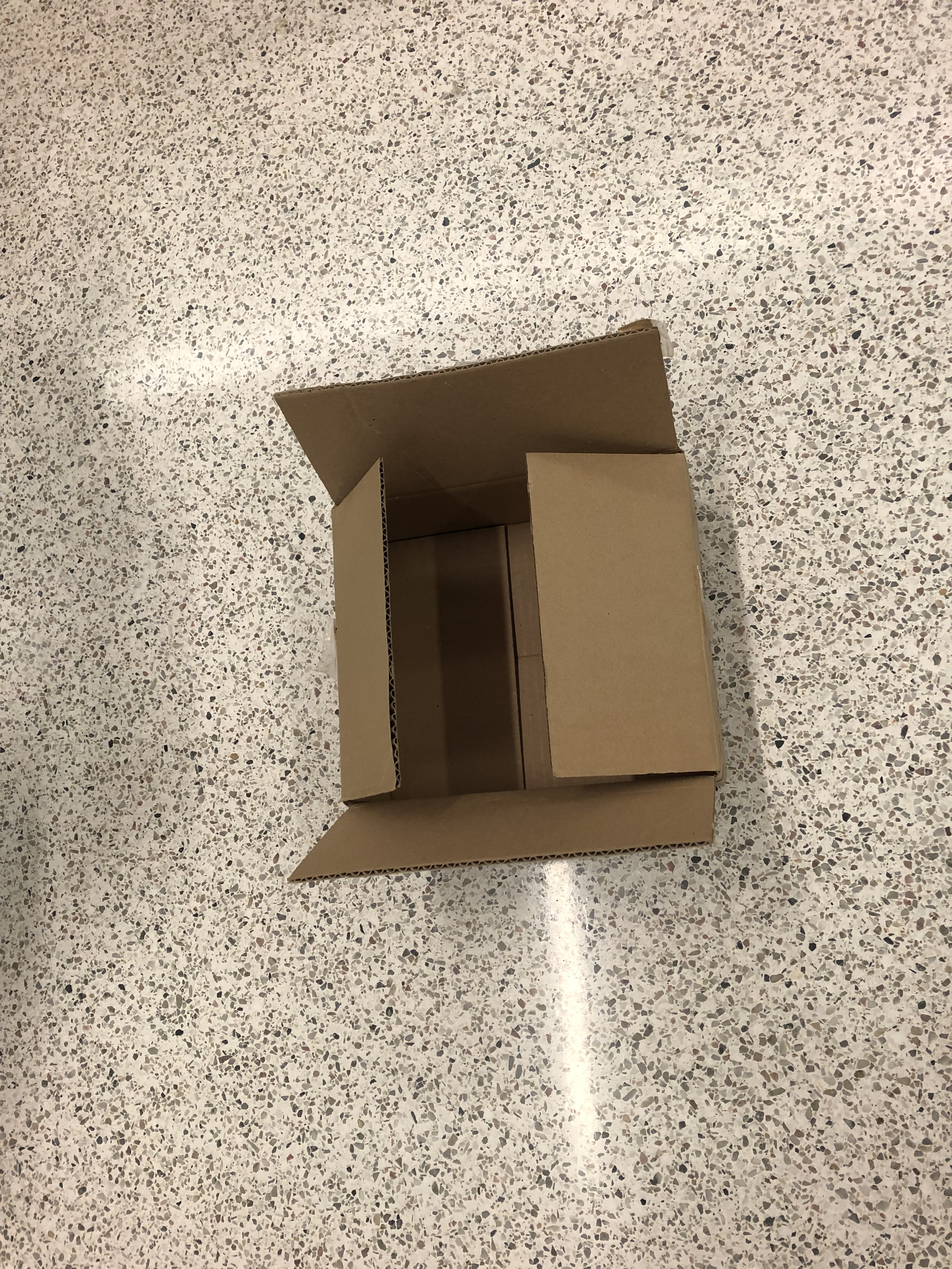box: (273, 323, 726, 883)
crushed: (278, 323, 728, 883)
